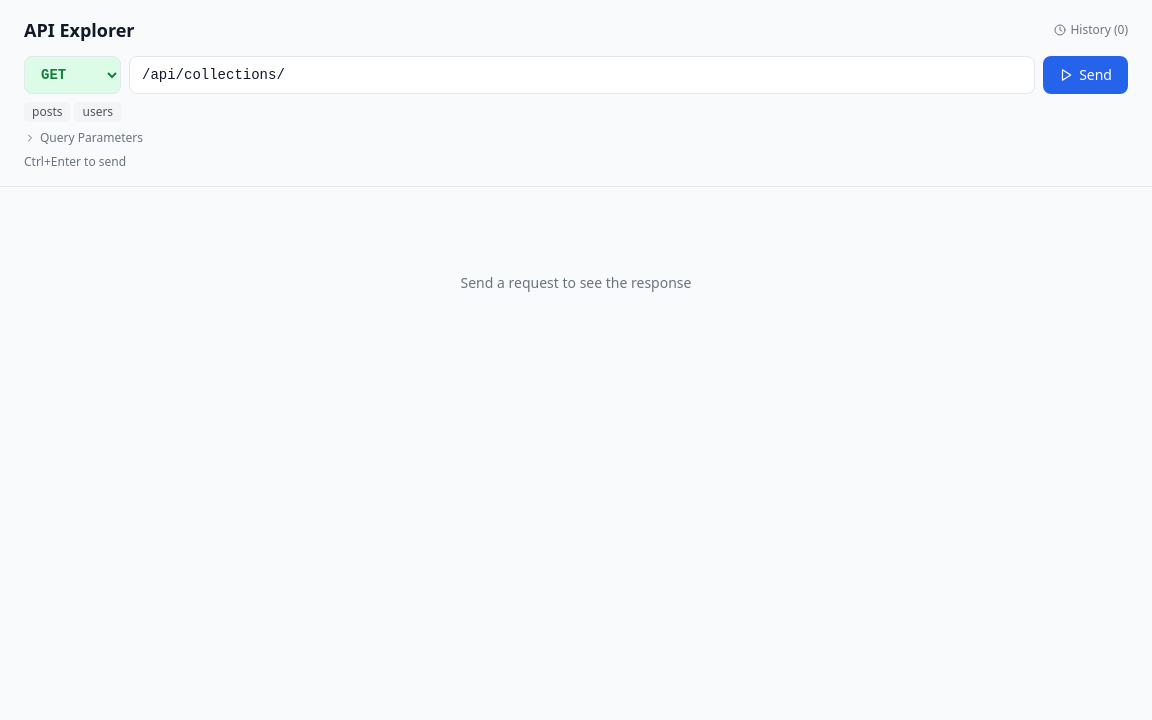
ApiExplorer › switches to JS SDK snippet tab
Replace the text in the field named "Request path" with "/api/collections/posts": [582, 75] box [129,56,1035,94]
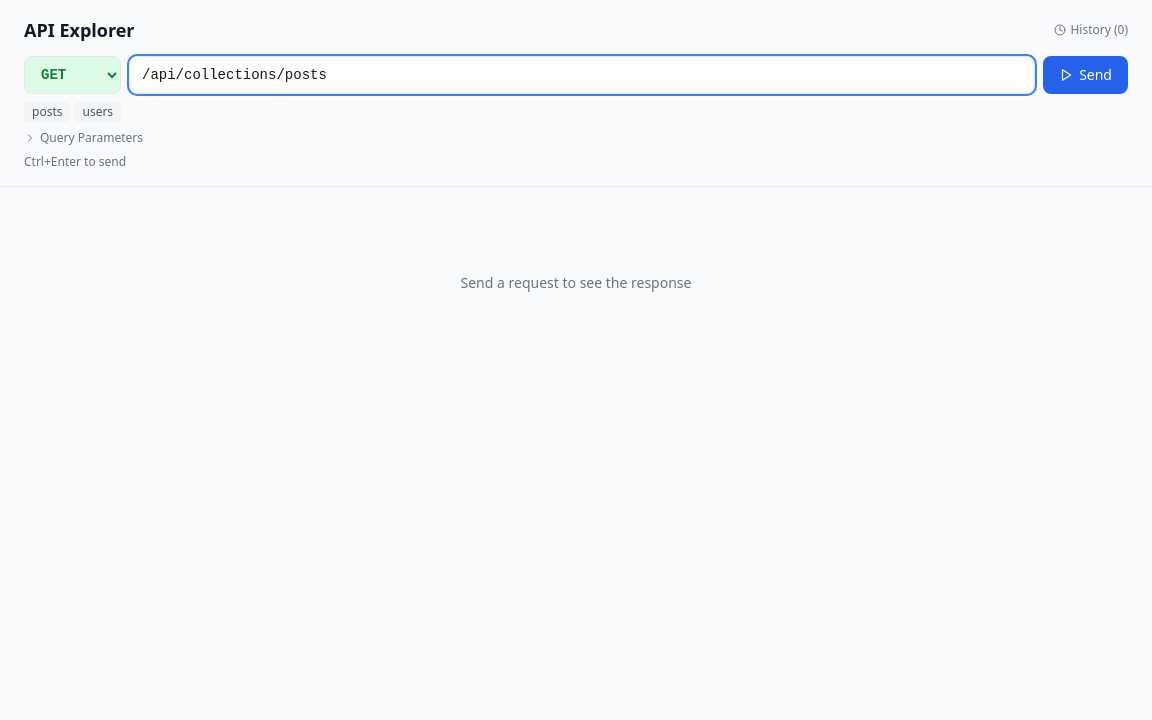
Click the button "Send": [1086, 75] box [1043,56,1128,94]
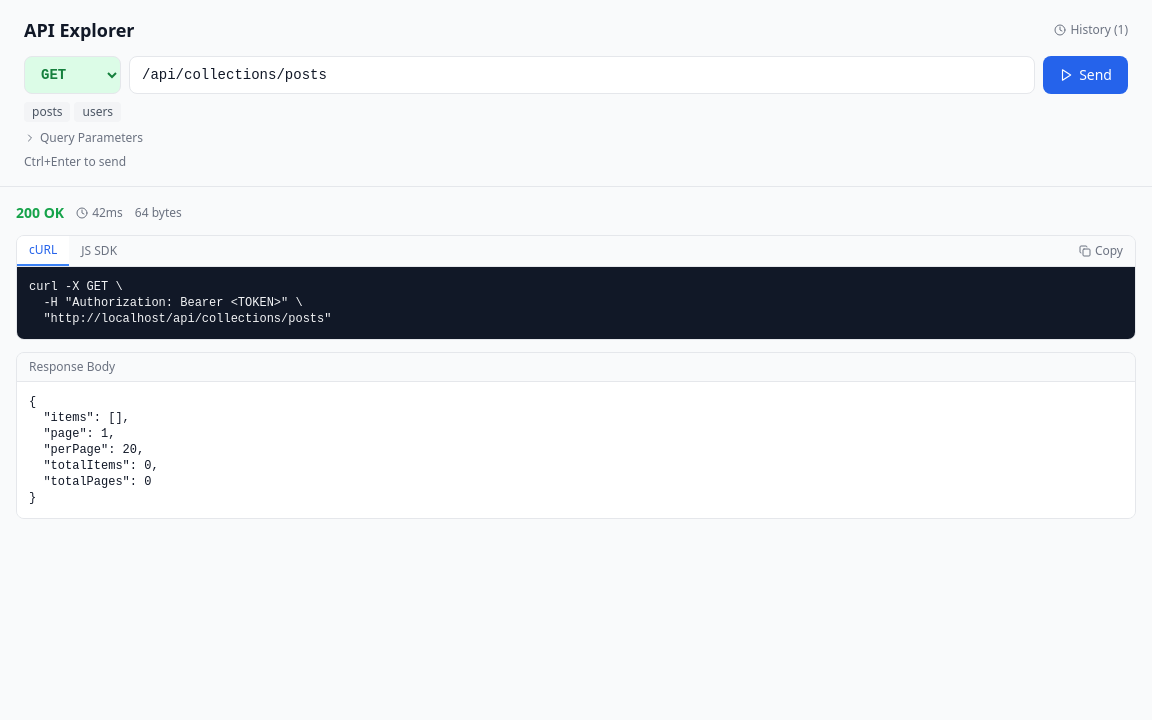
Now the button "JS SDK" is shown
Click the button "JS SDK": [99, 251] box [69,236,129,266]
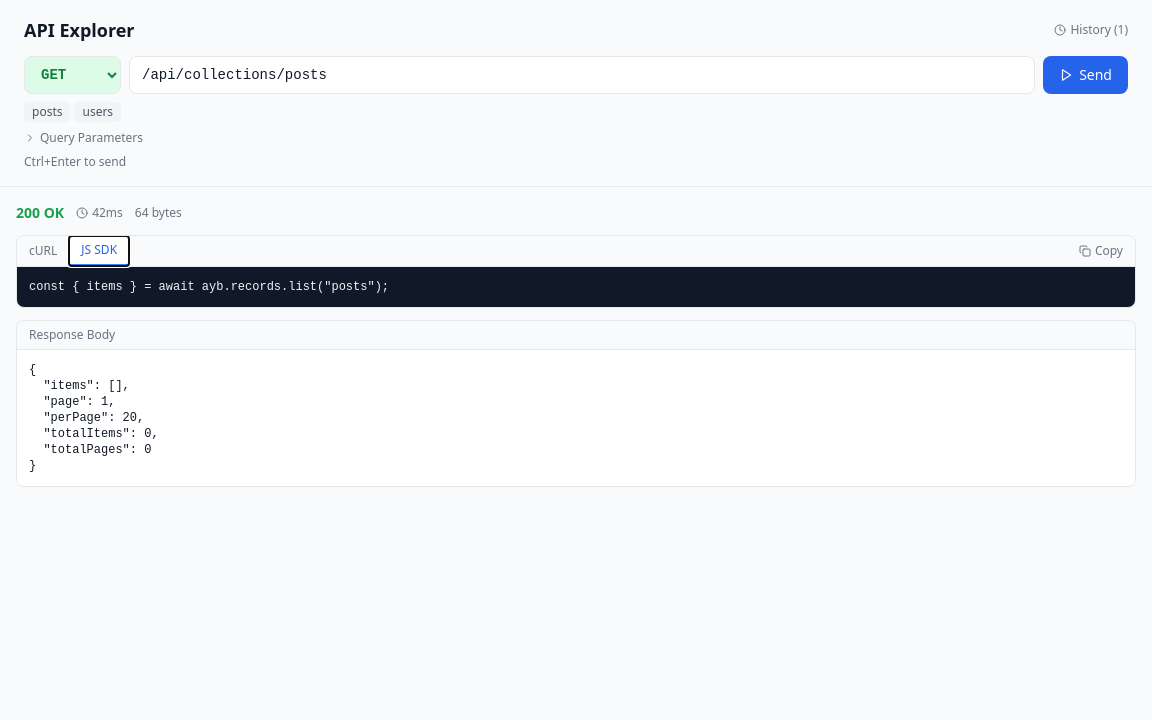
Now the text "const { items } = await ayb.records.list(\"posts\");" is shown, box [17,267,1135,307]
